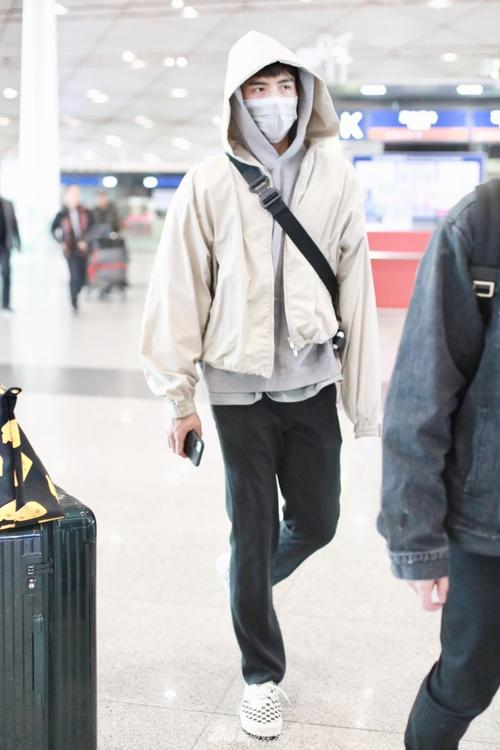yes_mask: (225, 28, 316, 148)
